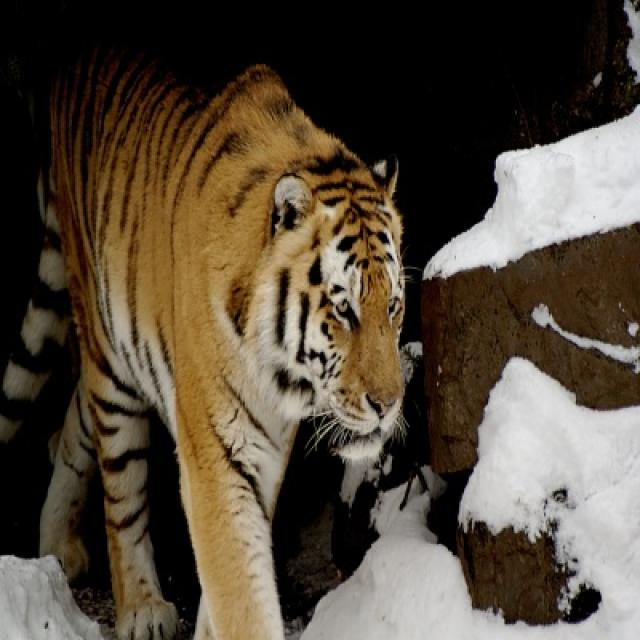Tiger: (0, 59, 412, 638)
